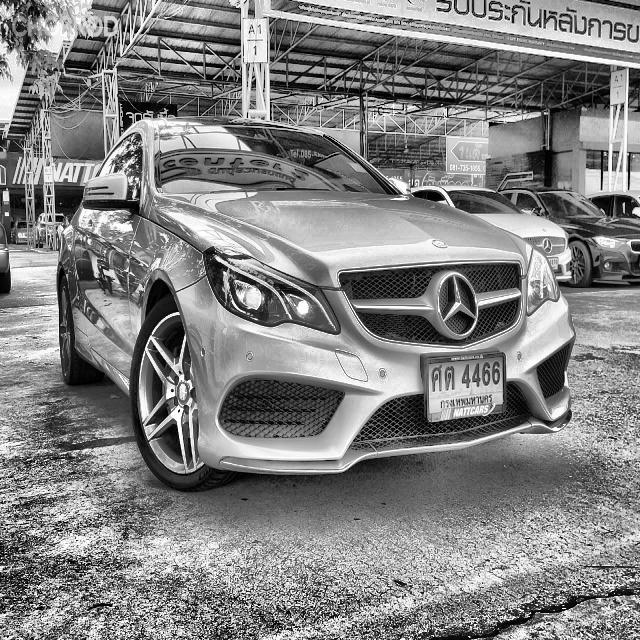license-plate: (420, 349, 509, 428), (545, 254, 562, 272)
